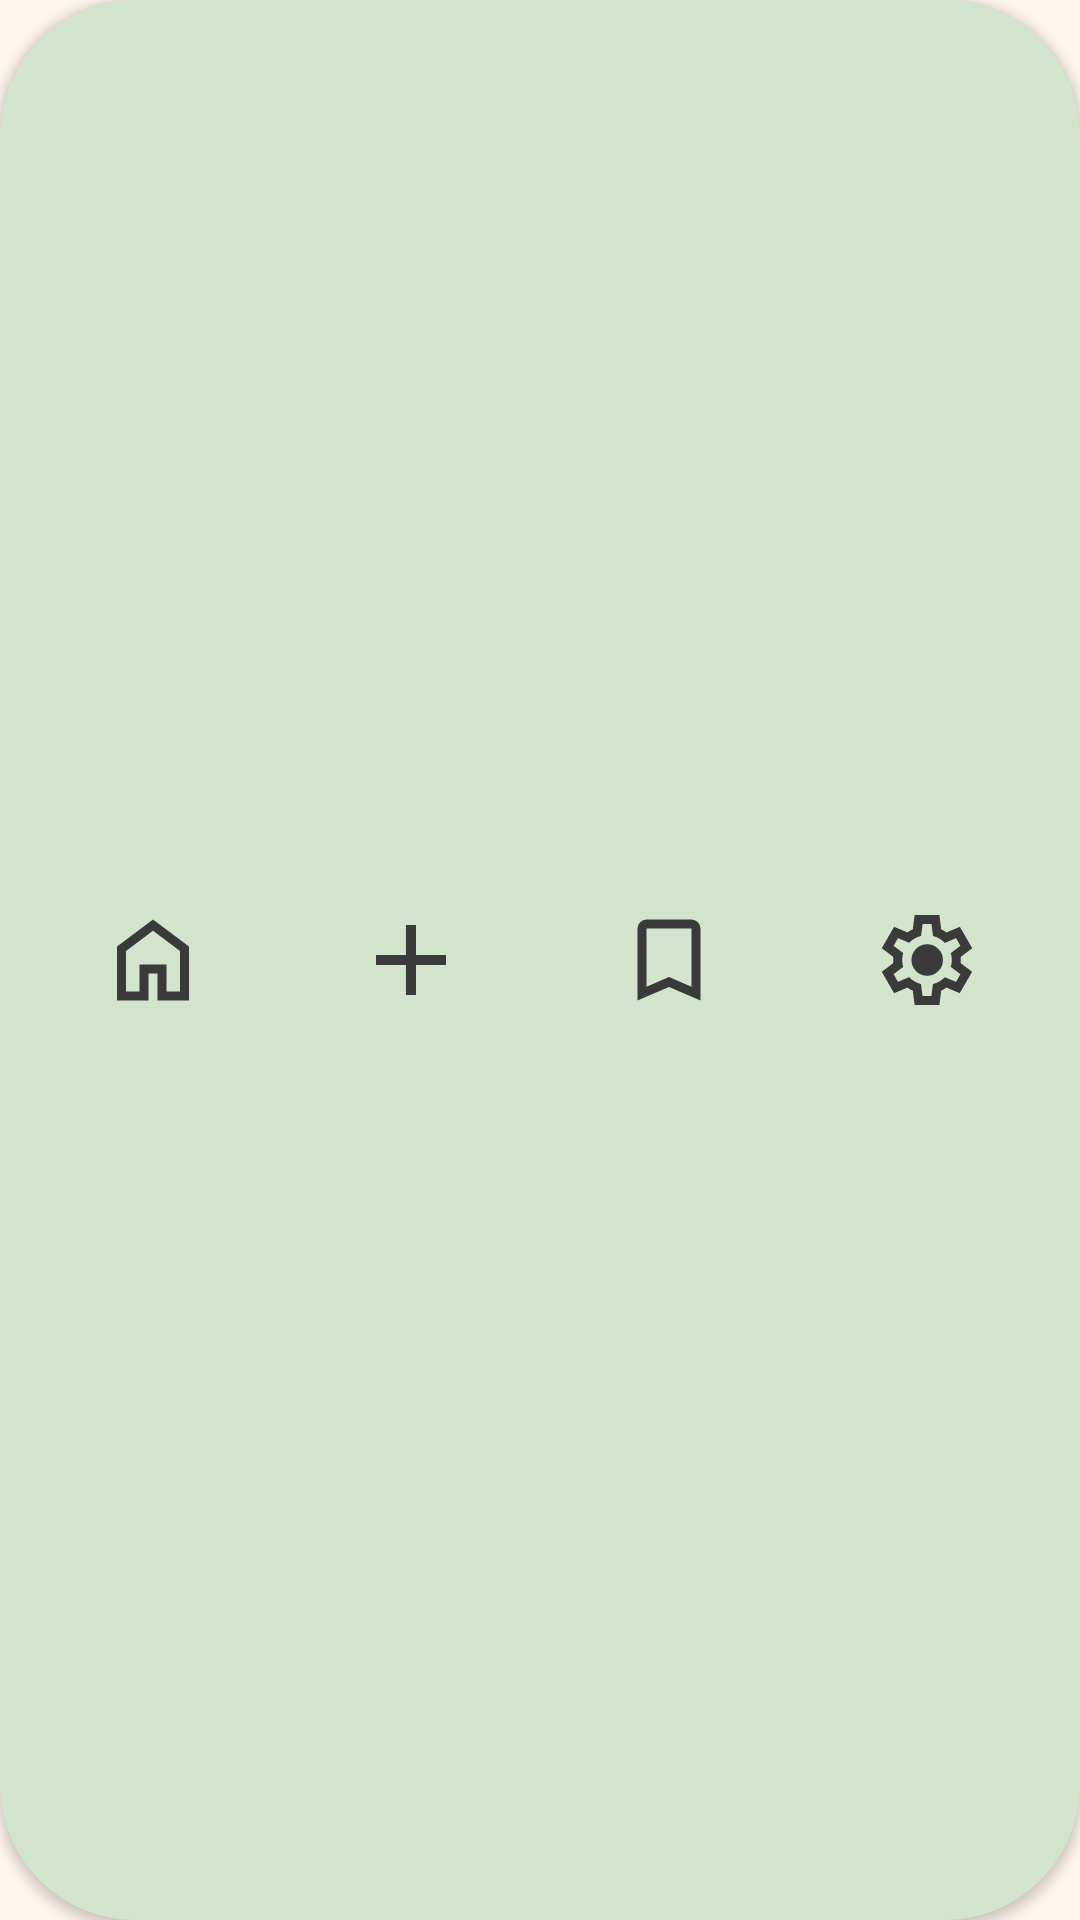

Point at icon controls on the screen. Image size 1080 × 1920, points as point (x, y).
add: point (411, 960)
bookmark: point (669, 960)
home: point (153, 960)
settings: point (927, 960)
